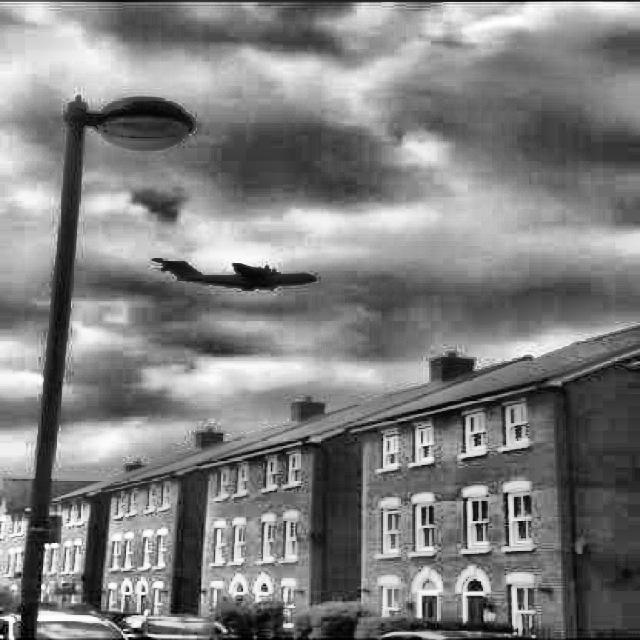A400M: (151, 258, 317, 291)
